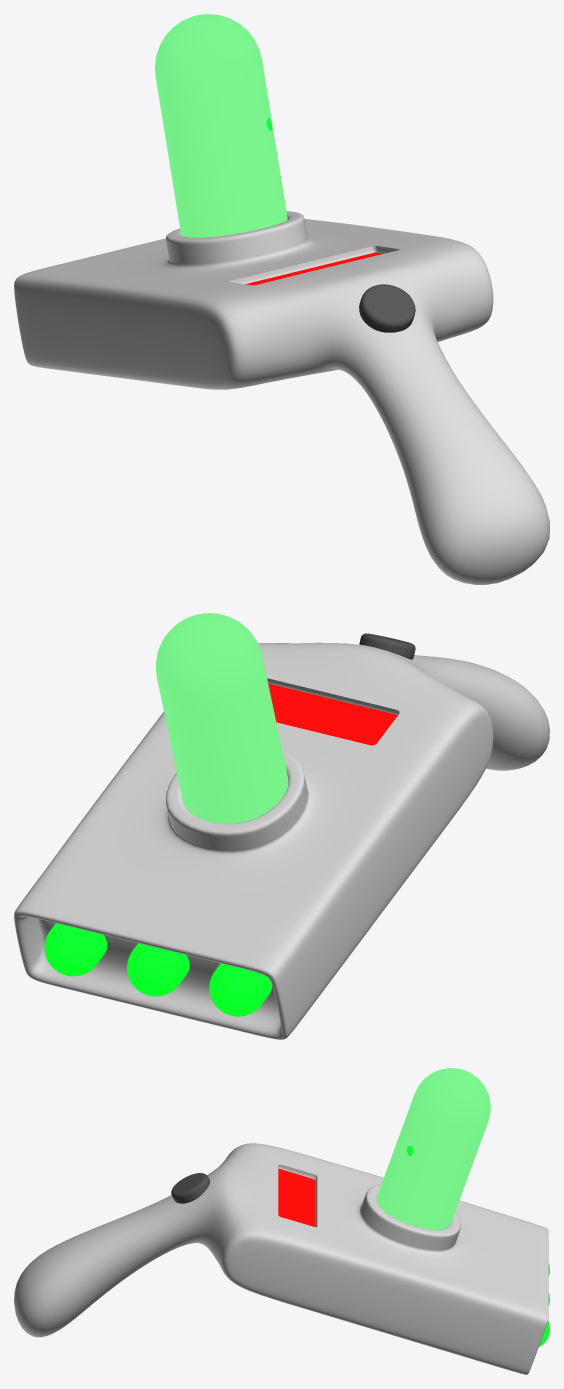
Rendered from RICK GUN.fbx.
3 renders of one model, top to bottom at view 1: azimuth 30°, elevation 25°; view 2: azimuth 150°, elevation 25°; view 3: azimuth 270°, elevation 25°, orthographic. The views are drawn at different scales.
Visible parts, largest first — view 1: BODY, DOME, Cilindro; view 2: BODY, DOME, LIGHTS, LCD, Cilindro; view 3: BODY, DOME, LCD, Cilindro.
Boxes of the visible parts, box(x1,y1,x2,y2) form: BODY: box(14, 211, 549, 584); DOME: box(155, 14, 287, 237); Cilindro: box(359, 284, 415, 332); BODY: box(14, 642, 549, 1039); DOME: box(155, 613, 288, 823); LIGHTS: box(44, 923, 272, 1016); LCD: box(268, 683, 397, 745); Cilindro: box(359, 633, 415, 659); BODY: box(14, 1143, 548, 1374); DOME: box(376, 1068, 490, 1229); LCD: box(278, 1168, 315, 1226); Cilindro: box(171, 1173, 210, 1203).
Bounding box in the file's own units: 129 × 165 × 308.
